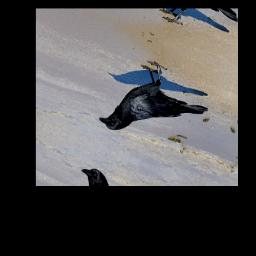Crow: (96, 49, 217, 160)
